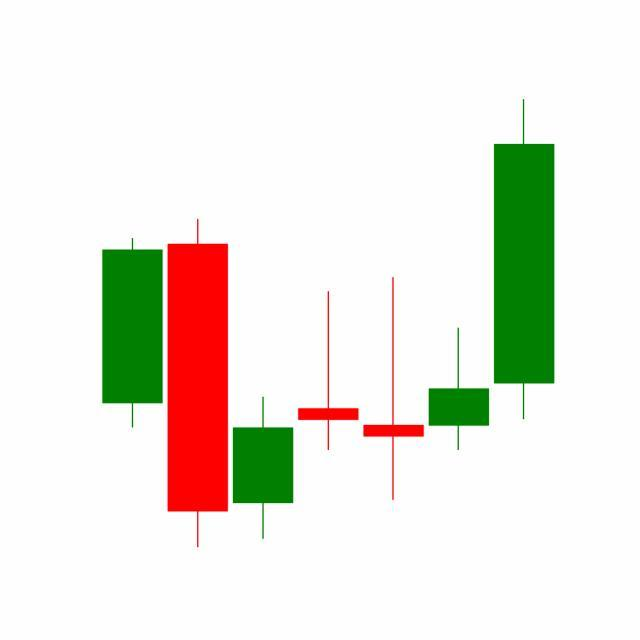Hikkake Pattern: (229, 100, 555, 545)
